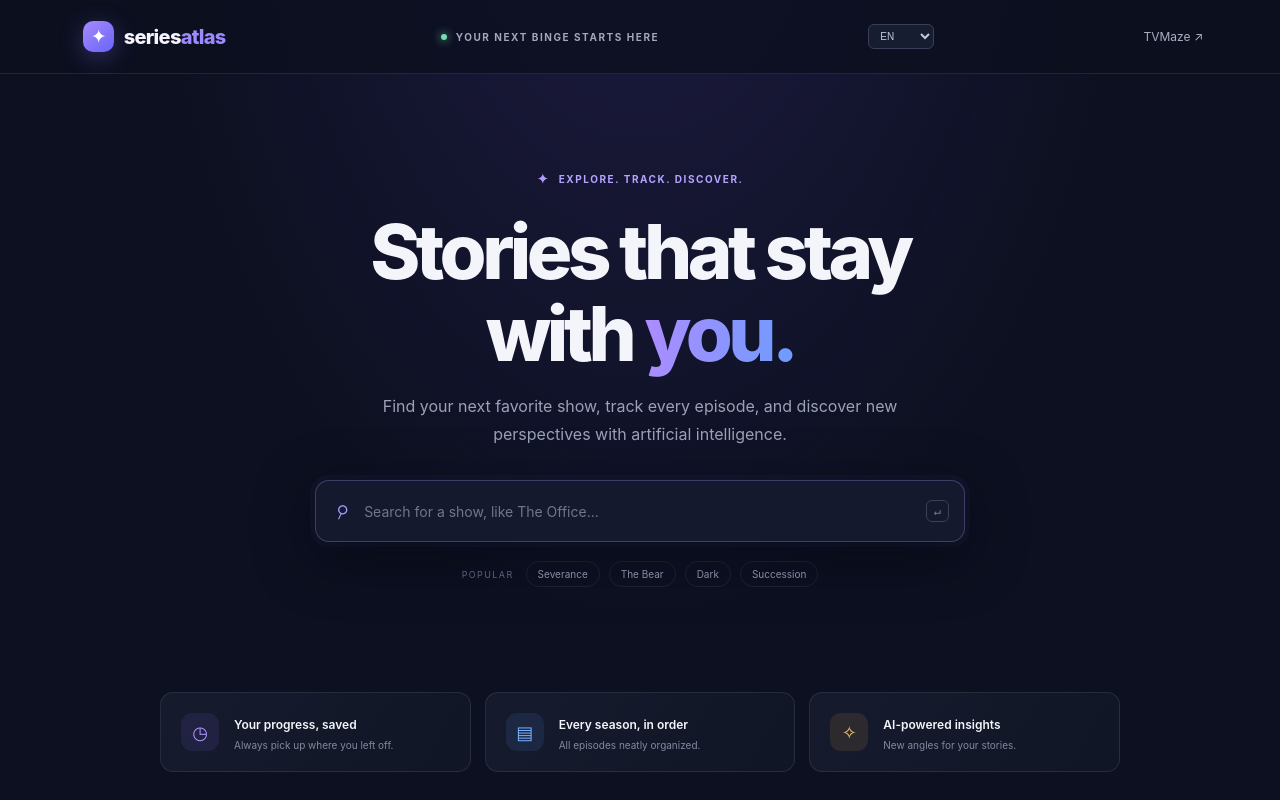
Test: application entrypoint › searches, opens a result, and returns home
In the field named "Search shows": (638, 511) [350,503,926,520], type "Example"
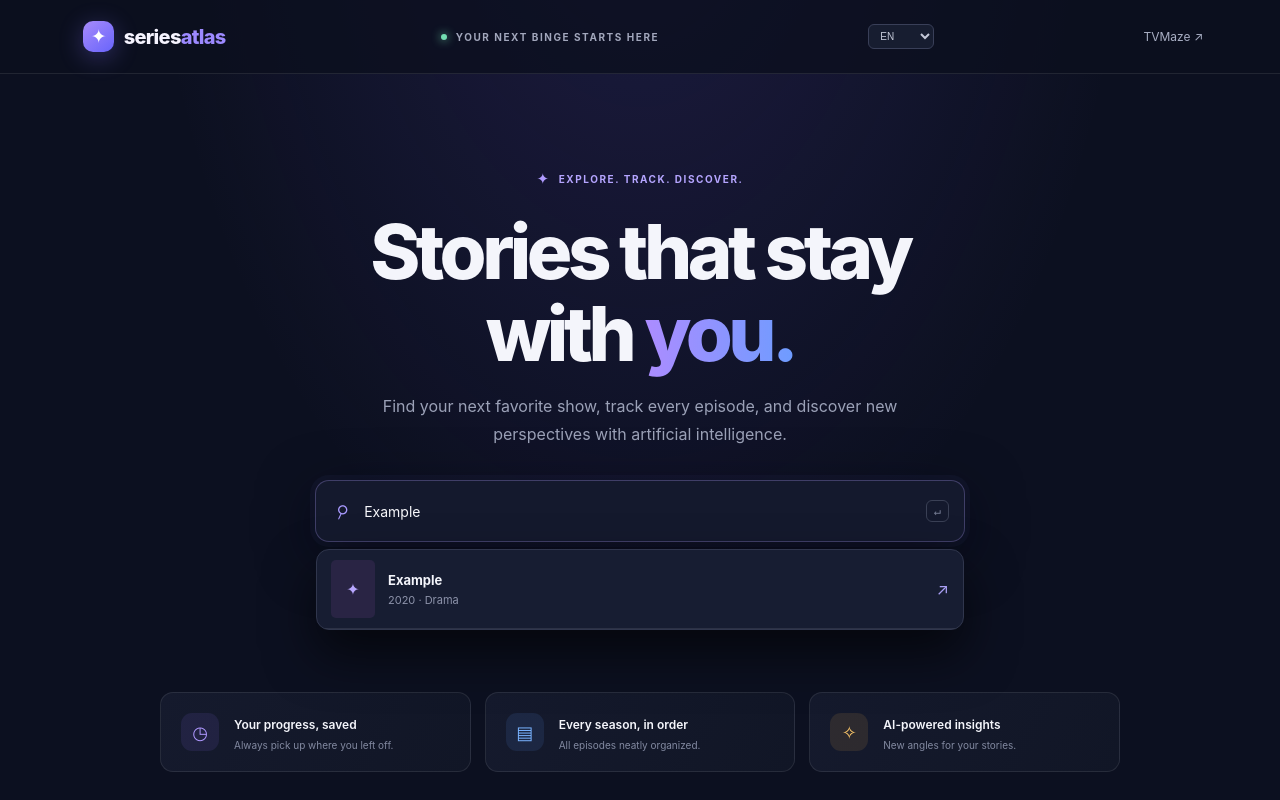
Click the button "✦ Example 2020 · Drama ↗": click(353, 589) [317,550,963,629]
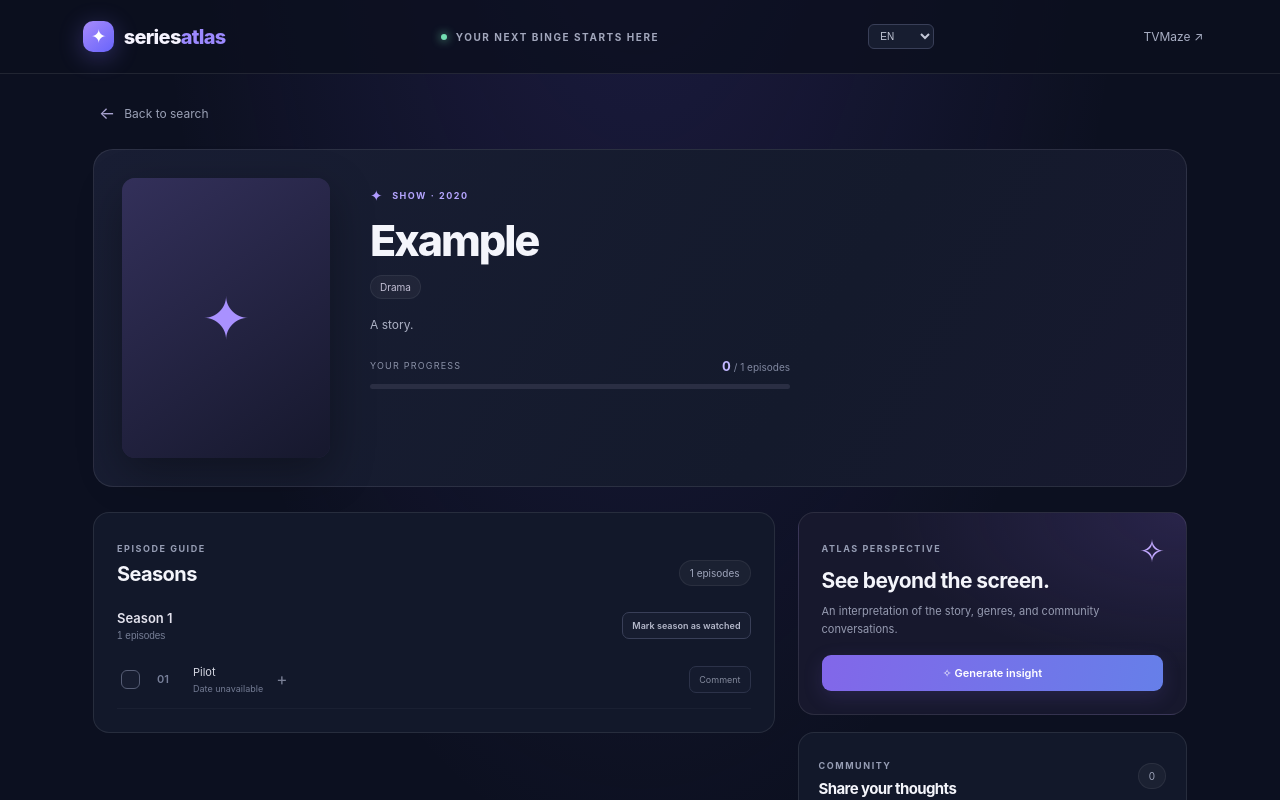
Now the heading "Example" is shown, box [370,214,538,266]
Click the button "← Back to search": click(154, 113) [93,102,214,124]
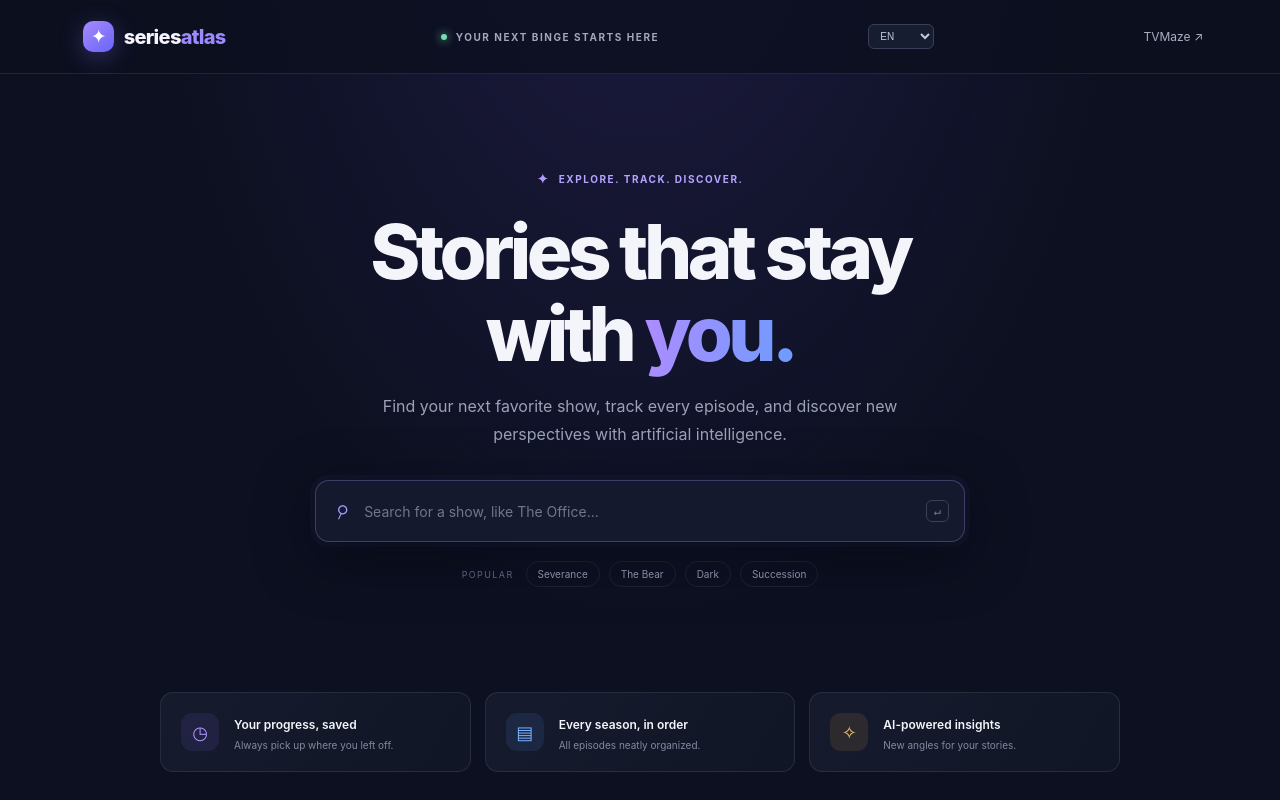
Now the field named "Search shows" is shown, box [350,503,926,520]
